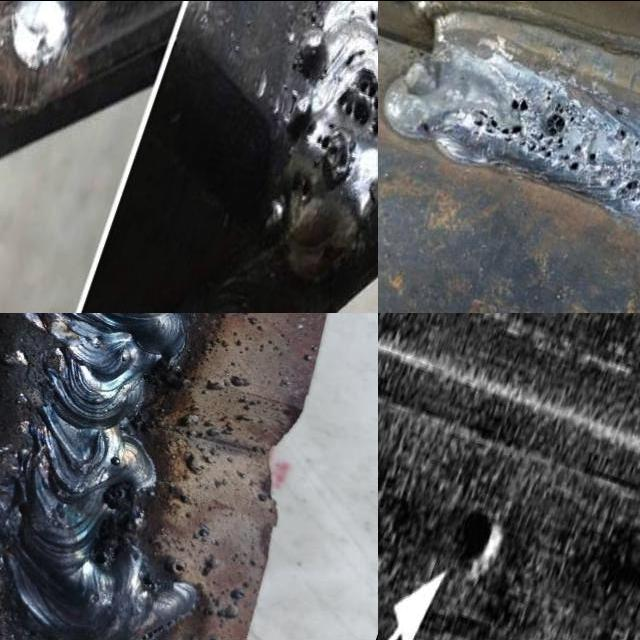defect: (464, 90, 603, 175), (444, 485, 511, 568), (335, 60, 378, 143), (315, 121, 359, 186), (99, 477, 134, 510), (612, 124, 636, 145), (91, 549, 112, 567)
